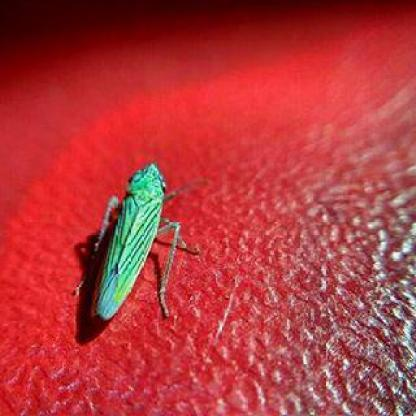green-leafhopper: (89, 159, 191, 323)
